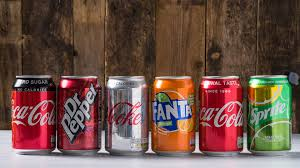can: (247, 75, 292, 157), (199, 76, 244, 157), (152, 76, 196, 157), (105, 75, 148, 157), (12, 75, 56, 155), (58, 76, 102, 156)
